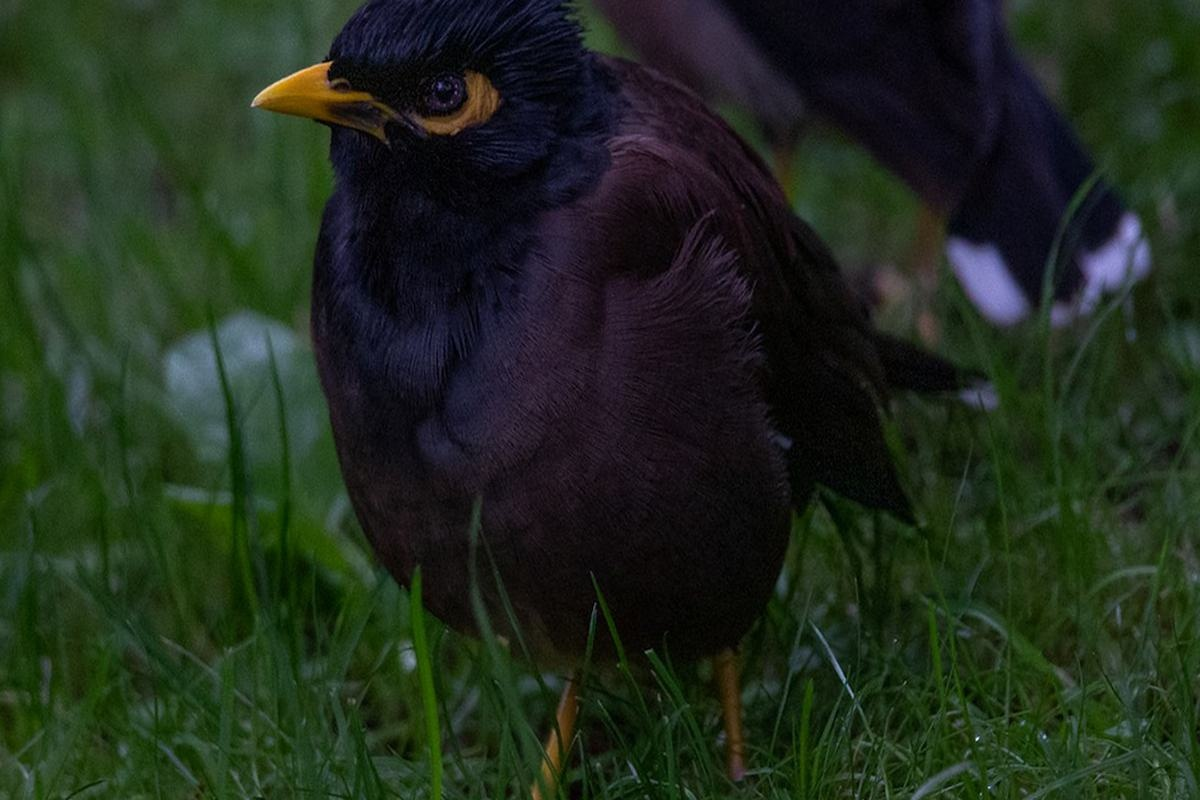myna: (245, 7, 903, 693)
